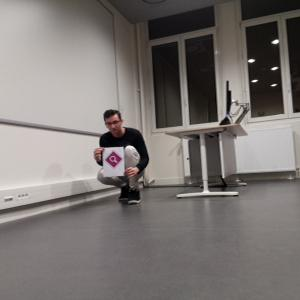search: (105, 151, 122, 168)
